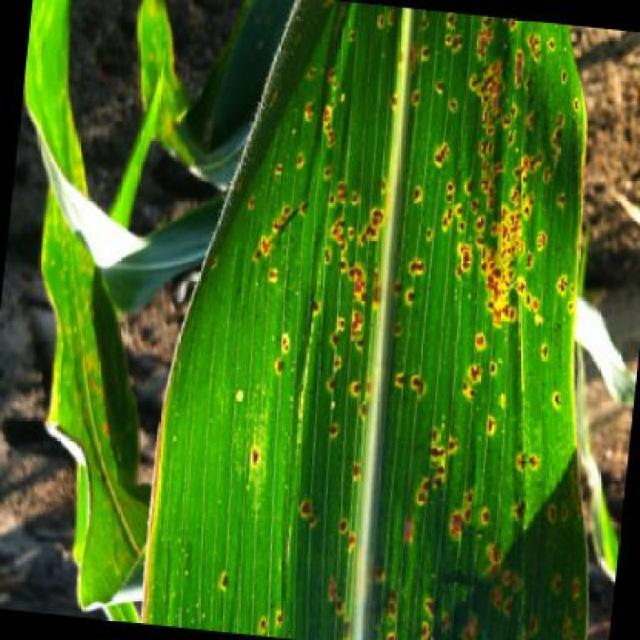Corn_Rust: (154, 37, 592, 626)
